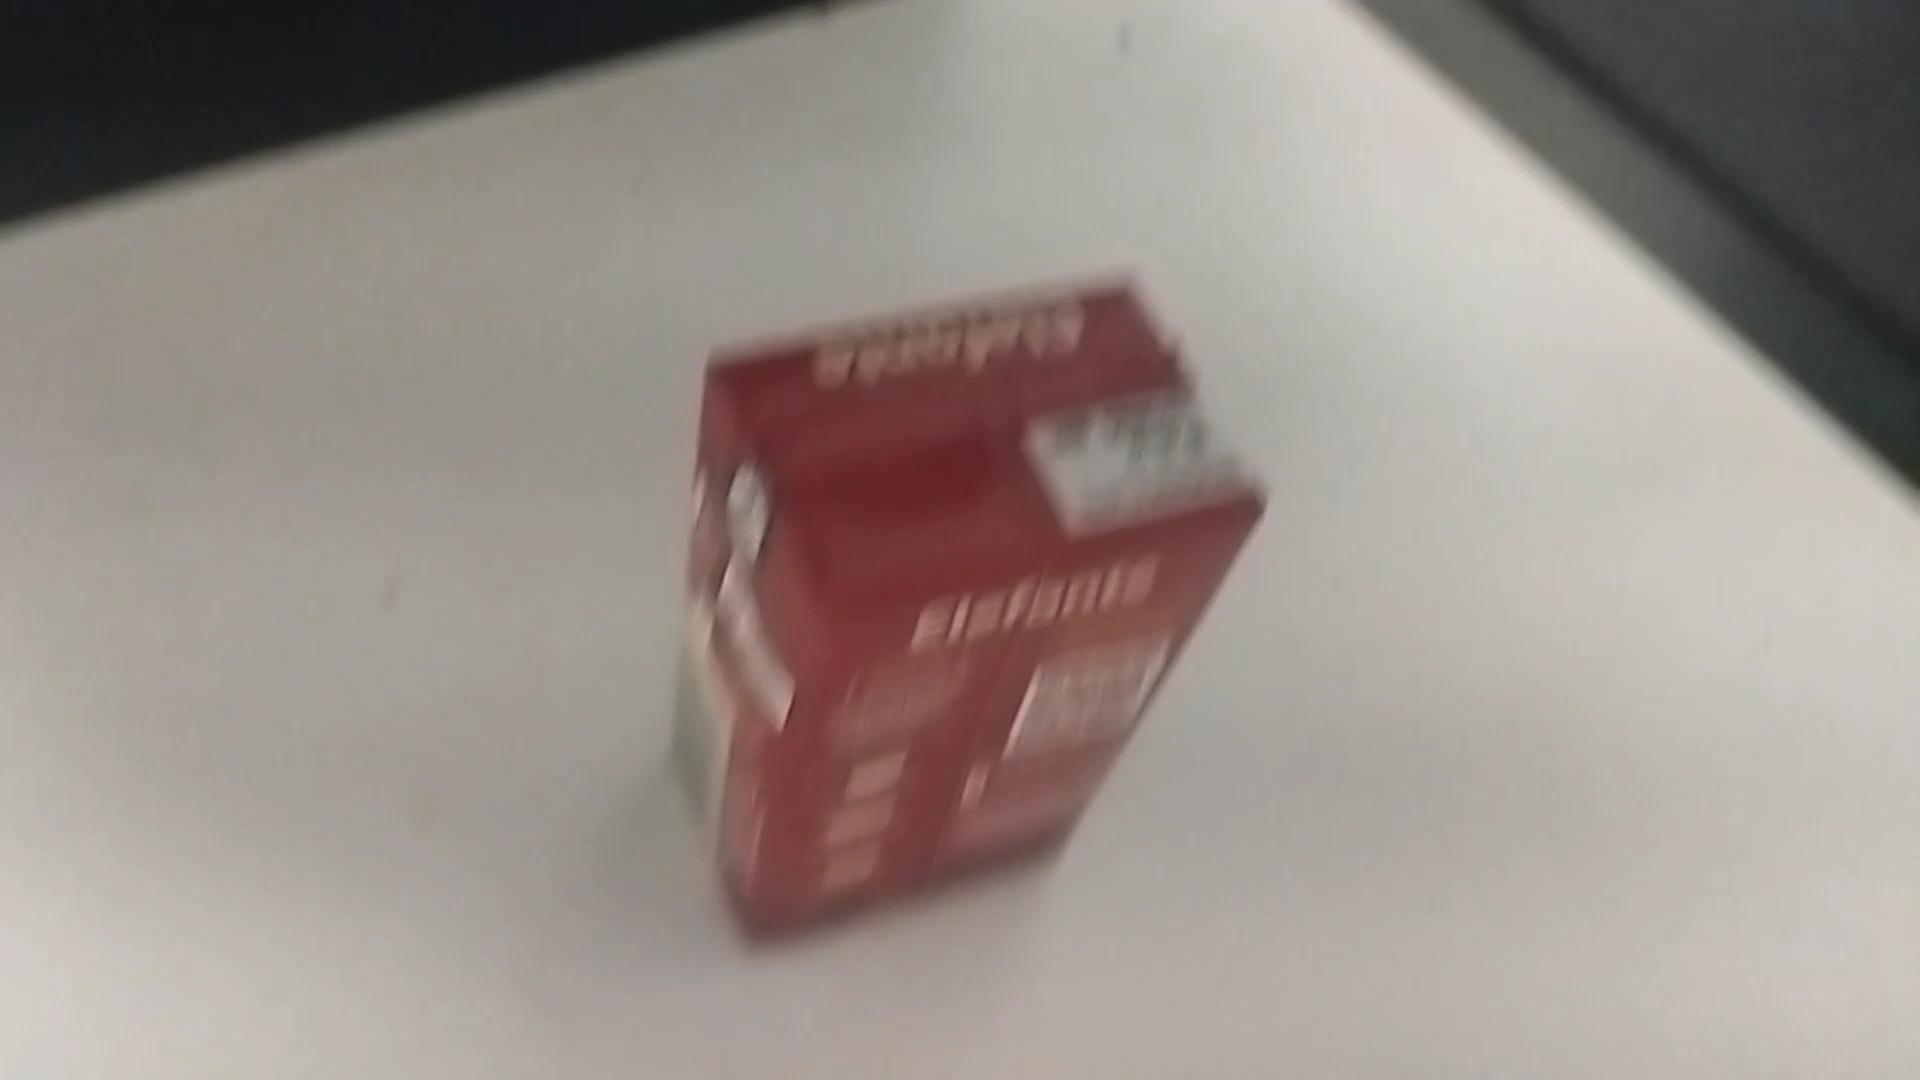tomate: (651, 257, 1284, 957)
